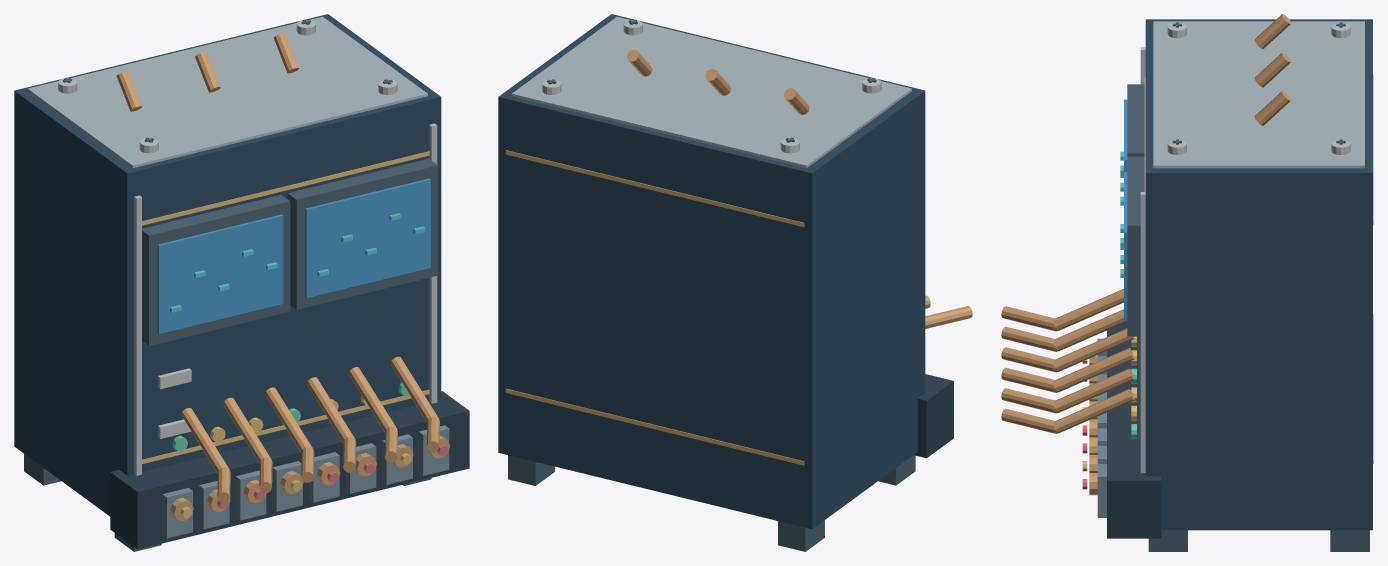
The model's file is 14_L77_MultiZonePressureControlBank.glb.
3 views of the same model, side by side, from view 1: azimuth 30°, elevation 25°; view 2: azimuth 150°, elevation 25°; view 3: azimuth 270°, elevation 25° (orthographic).
Parts seen in each view (by area): view 1: MultiZonePressureControlBank_Node_0000, MultiZonePressureControlBank_Node_0007, MultiZonePressureControlBank_Node_0049, MultiZonePressureControlBank_Node_0025, MultiZonePressureControlBank_Node_0032, MultiZonePressureControlBank_Node_0024, MultiZonePressureControlBank_Node_0031, MultiZonePressureControlBank_Node_0005, MultiZonePressureControlBank_Node_0006, MultiZonePressureControlBank_Node_0023, MultiZonePressureControlBank_Node_0021, MultiZonePressureControlBank_Node_0050 (+13 smaller); view 2: MultiZonePressureControlBank_Node_0000, MultiZonePressureControlBank_Node_0007, MultiZonePressureControlBank_Node_0049, MultiZonePressureControlBank_Node_0022, MultiZonePressureControlBank_Node_0020, MultiZonePressureControlBank_Node_0045, MultiZonePressureControlBank_Node_0047, MultiZonePressureControlBank_Node_0083; view 3: MultiZonePressureControlBank_Node_0000, MultiZonePressureControlBank_Node_0007, MultiZonePressureControlBank_Node_0049, MultiZonePressureControlBank_Node_0031, MultiZonePressureControlBank_Node_0006, MultiZonePressureControlBank_Node_0024, MultiZonePressureControlBank_Node_0091, MultiZonePressureControlBank_Node_0097, MultiZonePressureControlBank_Node_0094, MultiZonePressureControlBank_Node_0088, MultiZonePressureControlBank_Node_0085, MultiZonePressureControlBank_Node_0082 (+13 smaller).
Boxes of the visible parts, <box> form: MultiZonePressureControlBank_Node_0000: <box>14,14,441,516</box>; MultiZonePressureControlBank_Node_0007: <box>27,16,427,167</box>; MultiZonePressureControlBank_Node_0049: <box>110,391,469,549</box>; MultiZonePressureControlBank_Node_0025: <box>157,214,283,333</box>; MultiZonePressureControlBank_Node_0032: <box>305,178,430,297</box>; MultiZonePressureControlBank_Node_0024: <box>142,195,290,345</box>; MultiZonePressureControlBank_Node_0031: <box>287,158,437,309</box>; MultiZonePressureControlBank_Node_0005: <box>134,195,141,475</box>; MultiZonePressureControlBank_Node_0006: <box>429,123,437,403</box>; MultiZonePressureControlBank_Node_0023: <box>142,151,429,225</box>; MultiZonePressureControlBank_Node_0021: <box>142,389,429,463</box>; MultiZonePressureControlBank_Node_0050: <box>162,488,192,538</box>; MultiZonePressureControlBank_Node_0000: <box>498,14,925,529</box>; MultiZonePressureControlBank_Node_0007: <box>511,16,911,168</box>; MultiZonePressureControlBank_Node_0049: <box>914,374,953,458</box>; MultiZonePressureControlBank_Node_0022: <box>505,150,804,227</box>; MultiZonePressureControlBank_Node_0020: <box>505,388,804,465</box>; MultiZonePressureControlBank_Node_0045: <box>778,520,824,551</box>; MultiZonePressureControlBank_Node_0047: <box>508,455,554,485</box>; MultiZonePressureControlBank_Node_0083: <box>925,306,972,328</box>; MultiZonePressureControlBank_Node_0000: <box>1145,19,1372,530</box>; MultiZonePressureControlBank_Node_0007: <box>1153,21,1364,168</box>; MultiZonePressureControlBank_Node_0049: <box>1107,322,1161,538</box>; MultiZonePressureControlBank_Node_0031: <box>1127,156,1144,336</box>; MultiZonePressureControlBank_Node_0006: <box>1140,192,1145,472</box>; MultiZonePressureControlBank_Node_0024: <box>1127,84,1144,156</box>; MultiZonePressureControlBank_Node_0091: <box>1054,348,1134,392</box>; MultiZonePressureControlBank_Node_0097: <box>1054,389,1134,433</box>; MultiZonePressureControlBank_Node_0094: <box>1054,368,1134,412</box>; MultiZonePressureControlBank_Node_0088: <box>1054,328,1134,371</box>; MultiZonePressureControlBank_Node_0085: <box>1054,309,1126,351</box>; MultiZonePressureControlBank_Node_0082: <box>1054,289,1123,330</box>.
Bounding box in the file's own units: 1.27 × 1.53 × 1.23.
